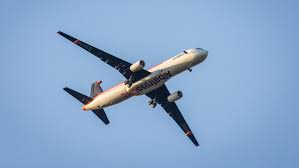maybay_dansu: (50, 27, 204, 149)
